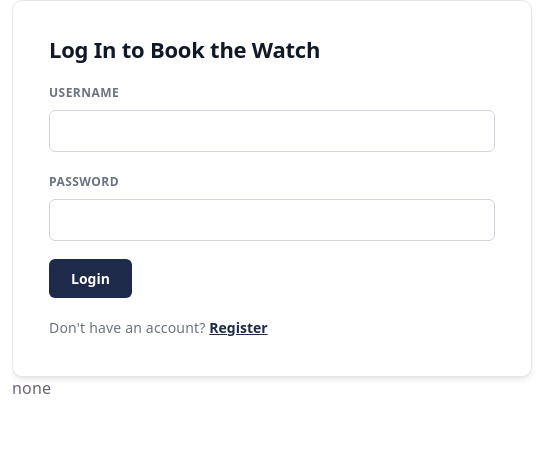
Test case: LoginForm › logs in successfully, shows the success message, and stores the token in context
Type "alice" into the field labelled "Username" at (272, 131), box [49,110,495,152]
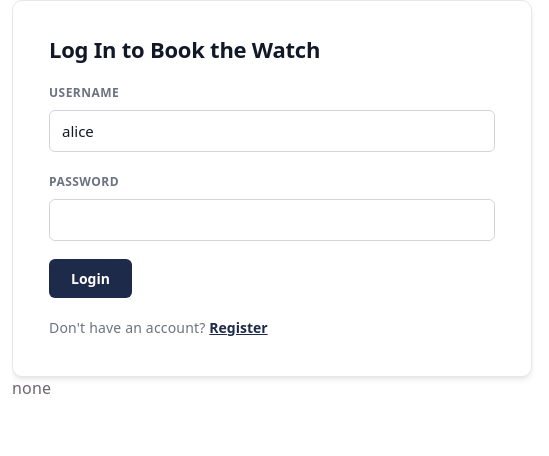
Type "password1" into the password field labelled "Password" at (272, 220), box [49,199,495,241]
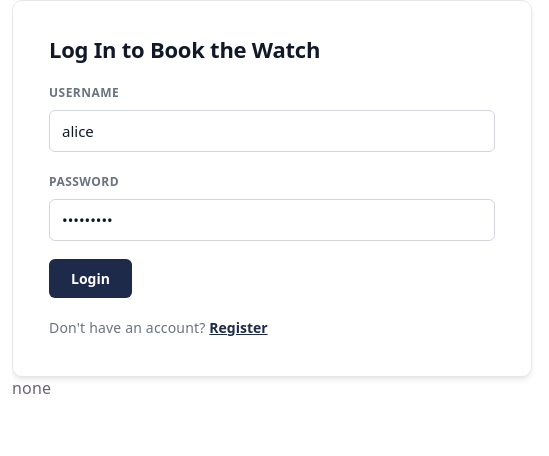
Click the button "Login" at (90, 279), box [49,259,132,298]
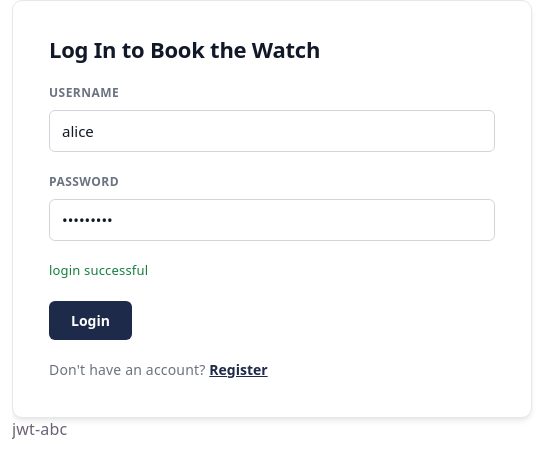
Now the text "login successful" is shown, box [49,261,148,279]
Now the text with test id "current-token" reads "jwt-abc", box [12,418,67,440]
